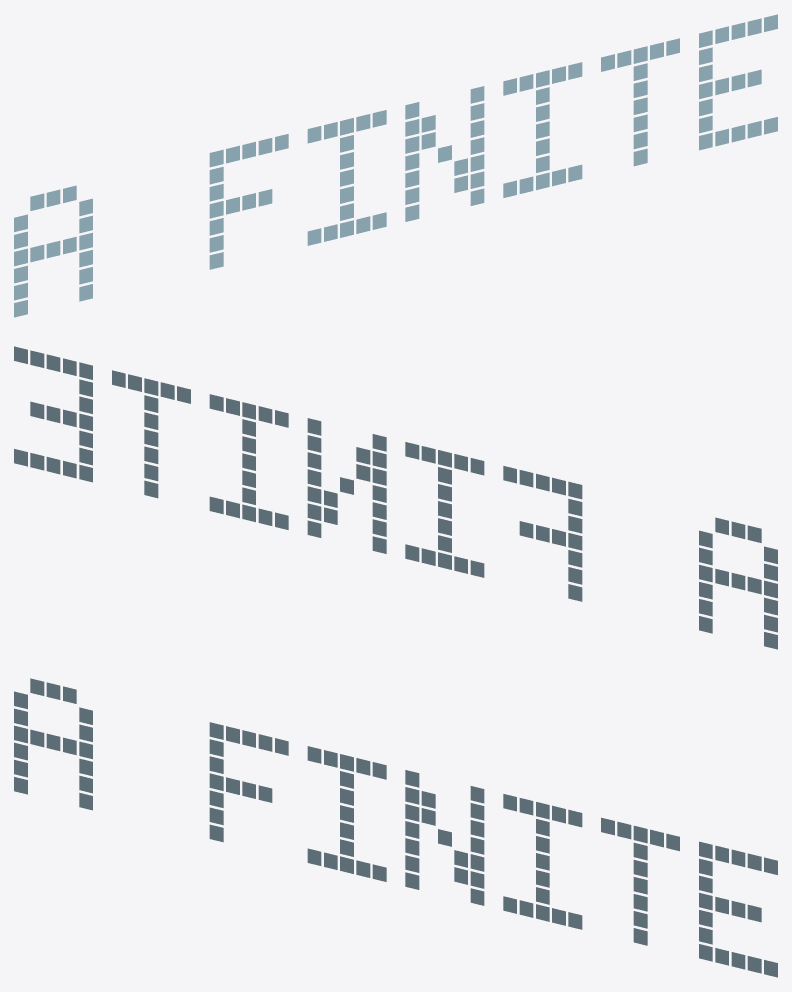
The model's file is a_finite.obj.
3 views of the same model, one above another, from view 1: azimuth 30°, elevation 25°; view 2: azimuth 150°, elevation 25°; view 3: azimuth 330°, elevation 25° (orthographic).
Parts seen in each view (by area): view 1: a_finite; view 2: a_finite; view 3: a_finite.
Boxes of the visible parts, x1=… form: a_finite: x1=14, y1=14, x2=777, y2=317; a_finite: x1=14, y1=346, x2=777, y2=649; a_finite: x1=14, y1=678, x2=777, y2=977.
Size of the model in its own units: 1.17 by 0.1713 by 0.
